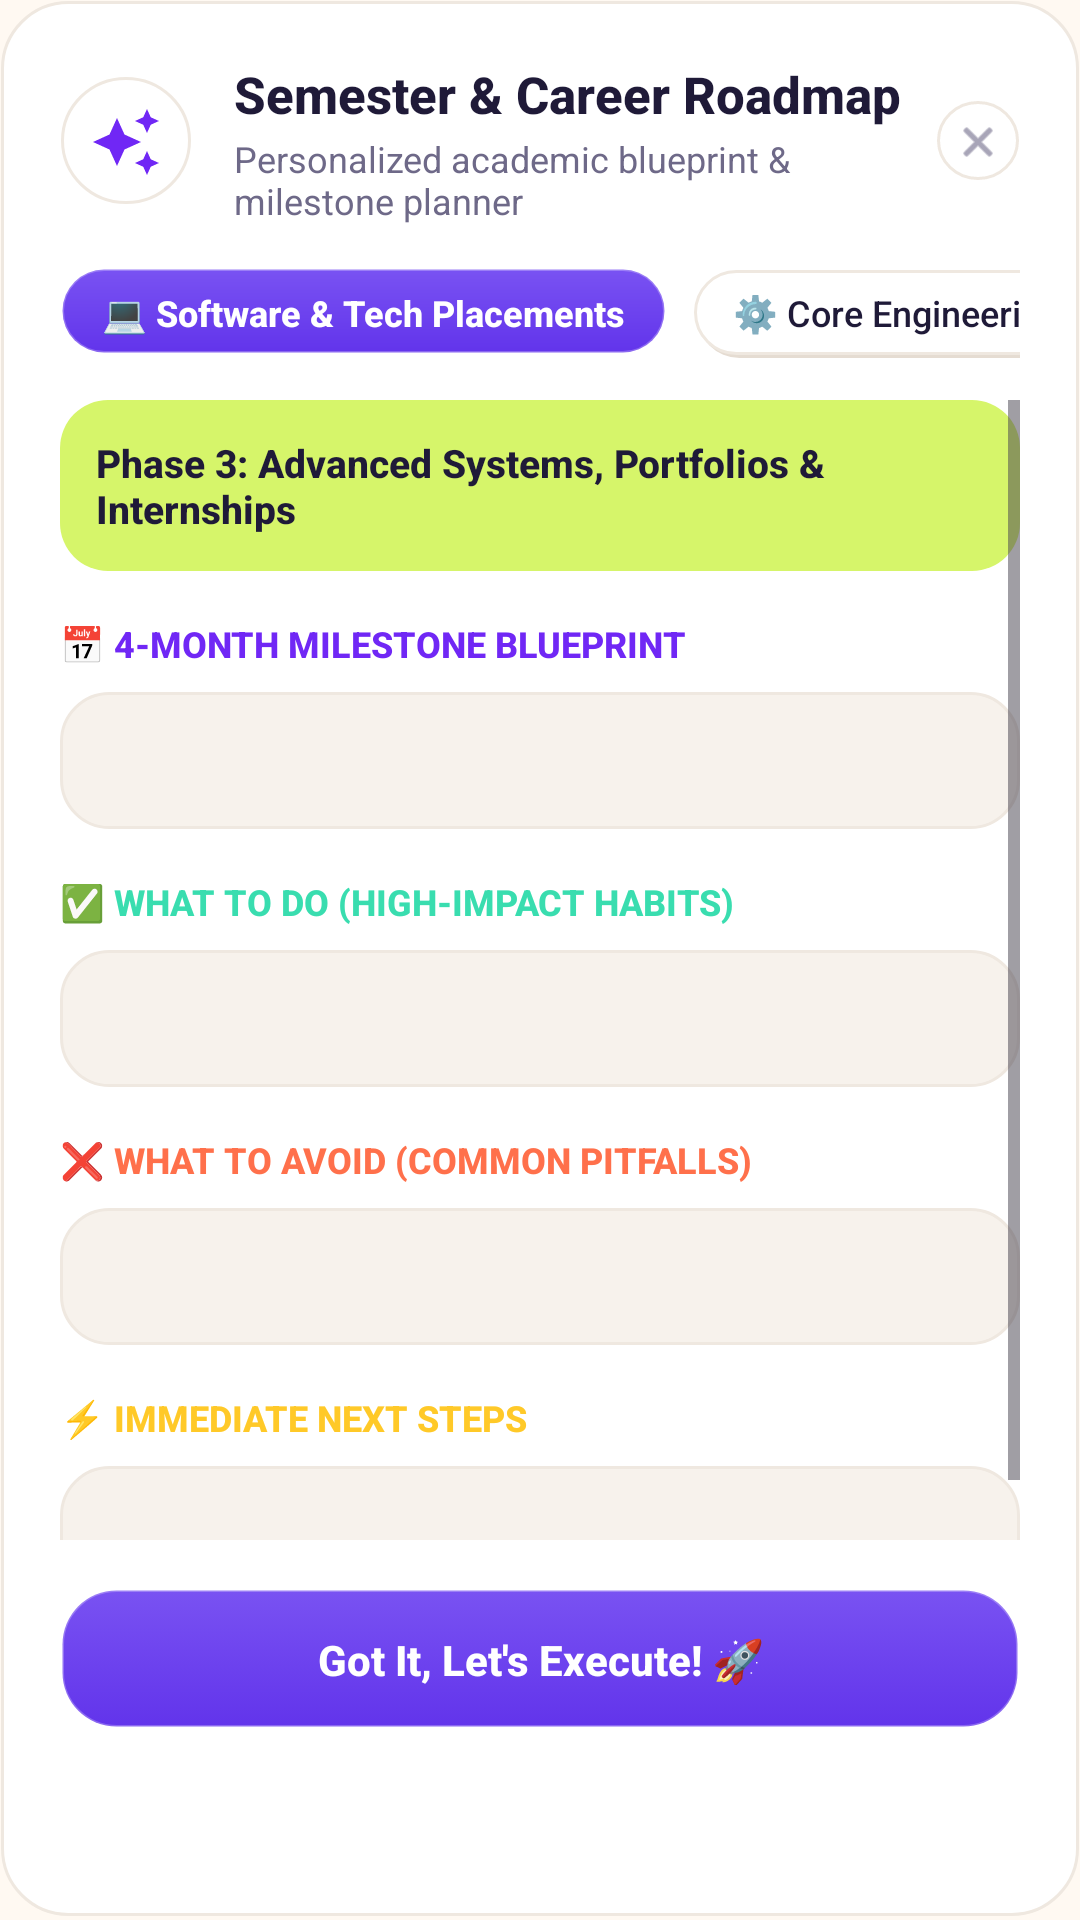

Where icons sit on this 1080px×1920px app screen, as bbox(x1, y1, x2, y2):
Close: bbox(937, 101, 1019, 180)
